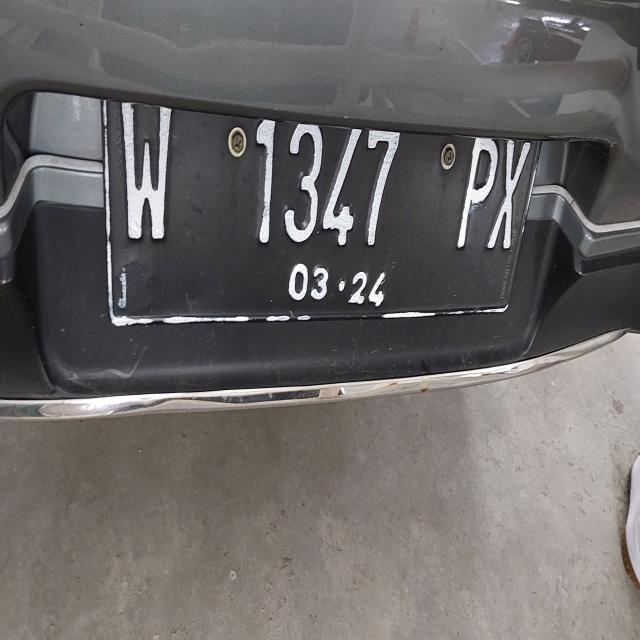1: (241, 101, 278, 262)
3: (282, 114, 324, 260)
4: (320, 115, 364, 254)
7: (356, 114, 404, 268)
P: (443, 110, 498, 258)
W: (110, 83, 181, 269)
X: (482, 122, 530, 266)
